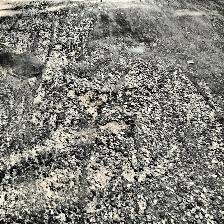pothole: (77, 88, 109, 116), (102, 118, 132, 134)
